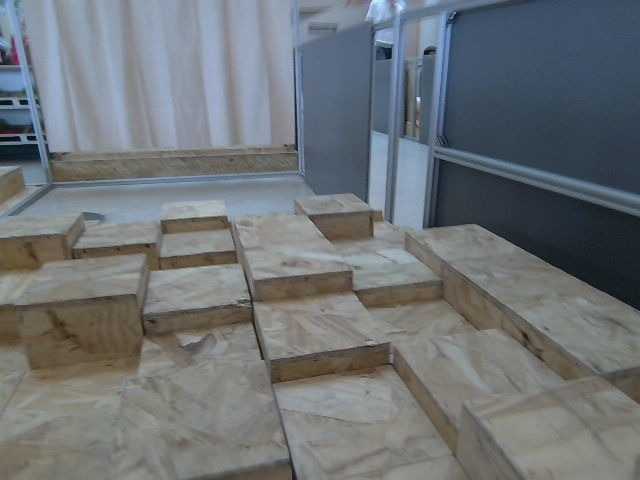curtain: (0, 0, 294, 149)
